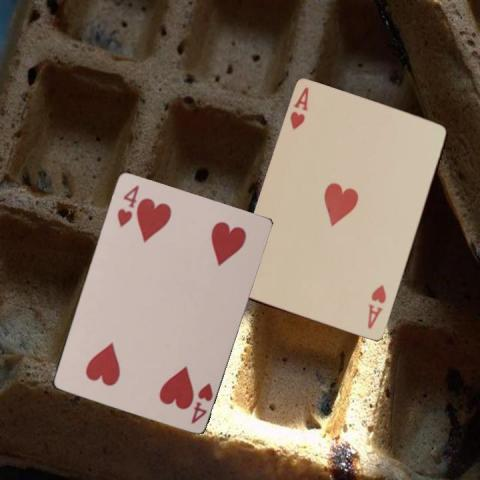4h: (114, 181, 141, 229), (188, 379, 214, 426)
Ah: (286, 84, 310, 131), (365, 282, 388, 331)
